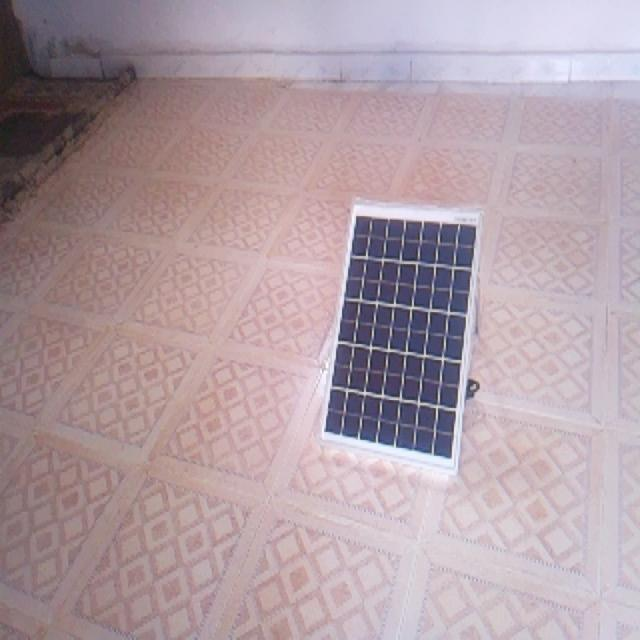Normal Solar Panel: (322, 200, 483, 473)
